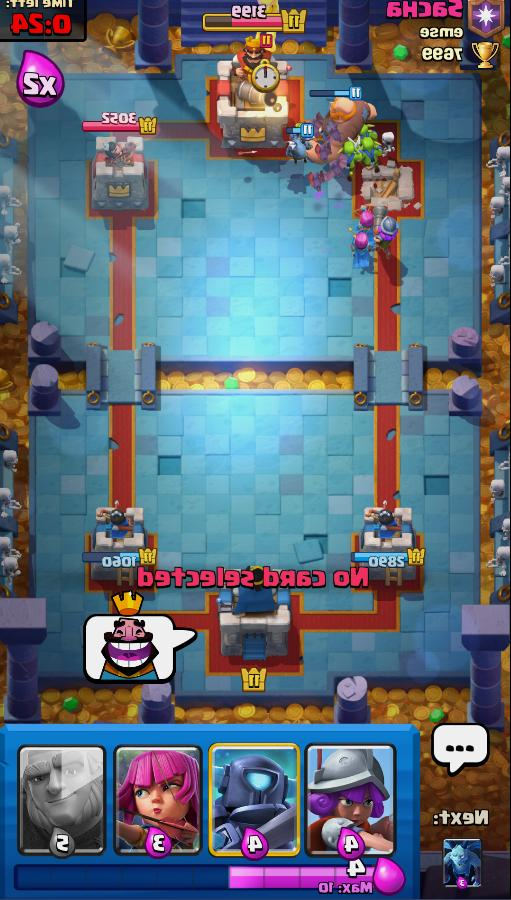archere: (342, 226, 380, 276), (343, 203, 380, 246)
bat: (321, 151, 354, 183), (299, 167, 335, 195), (301, 113, 327, 139), (322, 120, 346, 147)
gargouille: (279, 128, 314, 167)
geant: (298, 95, 389, 168)
gobelin: (331, 139, 364, 180), (354, 135, 384, 174), (351, 118, 382, 148)
mousquetaire: (368, 203, 404, 259)
squelette: (377, 130, 404, 160)
